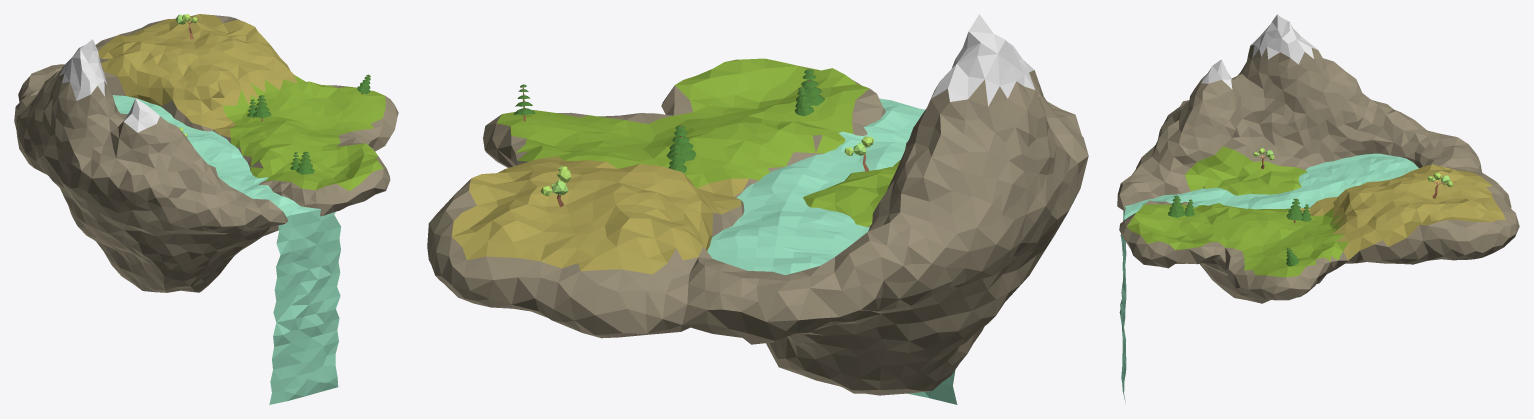
The model's file is islandtest.glb.
3 renders of one model, left to right at view 1: azimuth 30°, elevation 25°; view 2: azimuth 150°, elevation 25°; view 3: azimuth 270°, elevation 25°, orthographic. The views are drawn at different scales.
Visible parts, largest first — view 1: Icosphere.003, Plane.006; view 2: Icosphere.003, Plane.006; view 3: Icosphere.003, Plane.006.
Boxes of the visible parts, x1,y1,x2,y2 form: Icosphere.003: (14, 14, 398, 292); Plane.006: (112, 95, 340, 404); Icosphere.003: (427, 14, 1088, 395); Plane.006: (707, 98, 957, 404); Icosphere.003: (1117, 14, 1519, 303); Plane.006: (1119, 153, 1418, 402).
Bounding box in the file's own units: 31.57 × 28.44 × 33.03.
